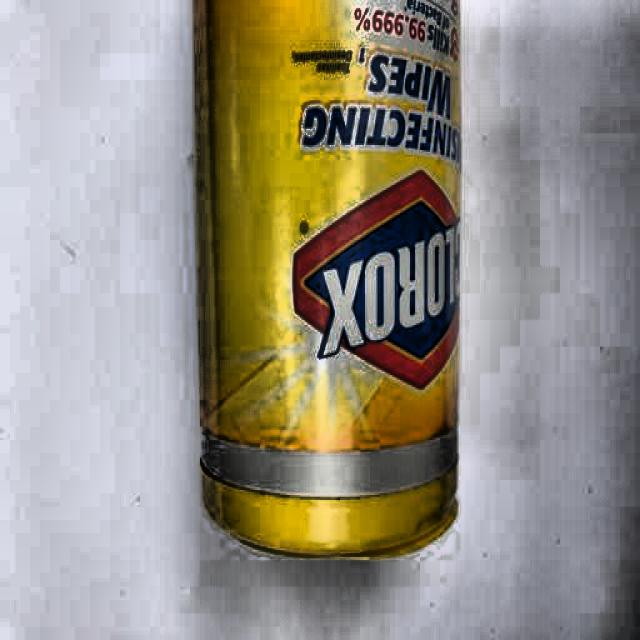plastic: (189, 2, 462, 556)
